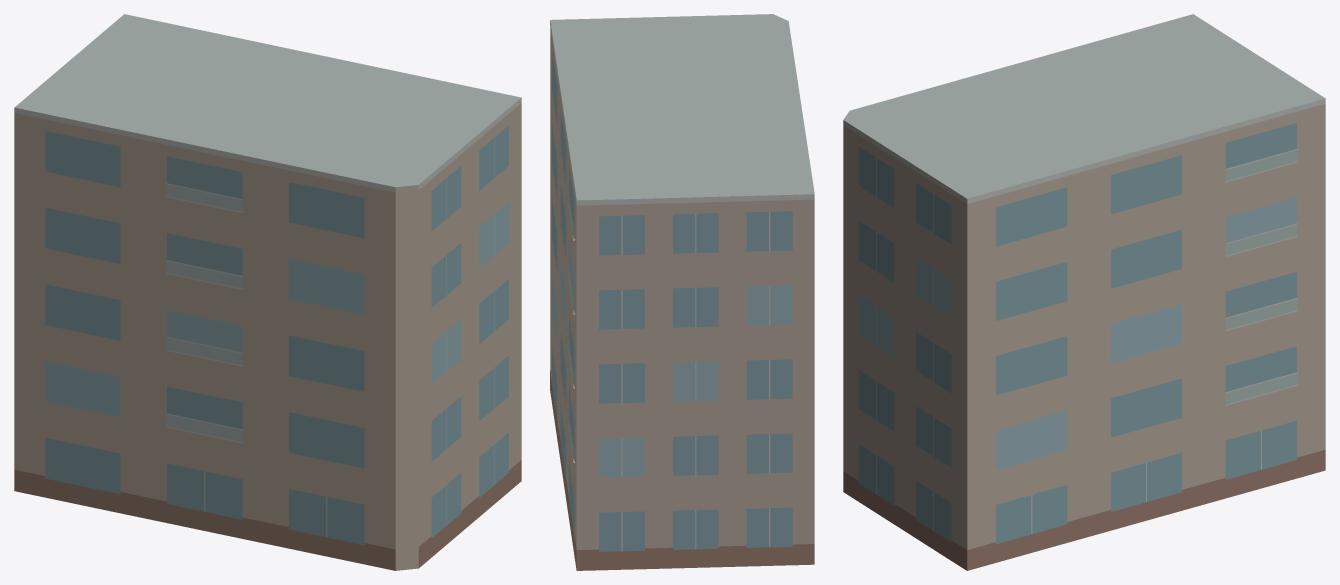
File: survey-upis-32630631.glb
The picture shows the model from 3 angles, left to right: view 1: azimuth 30°, elevation 25°; view 2: azimuth 150°, elevation 25°; view 3: azimuth 270°, elevation 25°; orthographic projection. The views are drawn at different scales.
Visible parts, largest first — view 1: survey-upis-32630631.tmp; view 2: survey-upis-32630631.tmp; view 3: survey-upis-32630631.tmp.
Part boxes in pixels (x1,y1,x2,y2): survey-upis-32630631.tmp: (14,14,521,570); survey-upis-32630631.tmp: (550,14,814,570); survey-upis-32630631.tmp: (843,14,1325,570).
Size of the model in its own units: 18.43 by 17.29 by 20.33.
